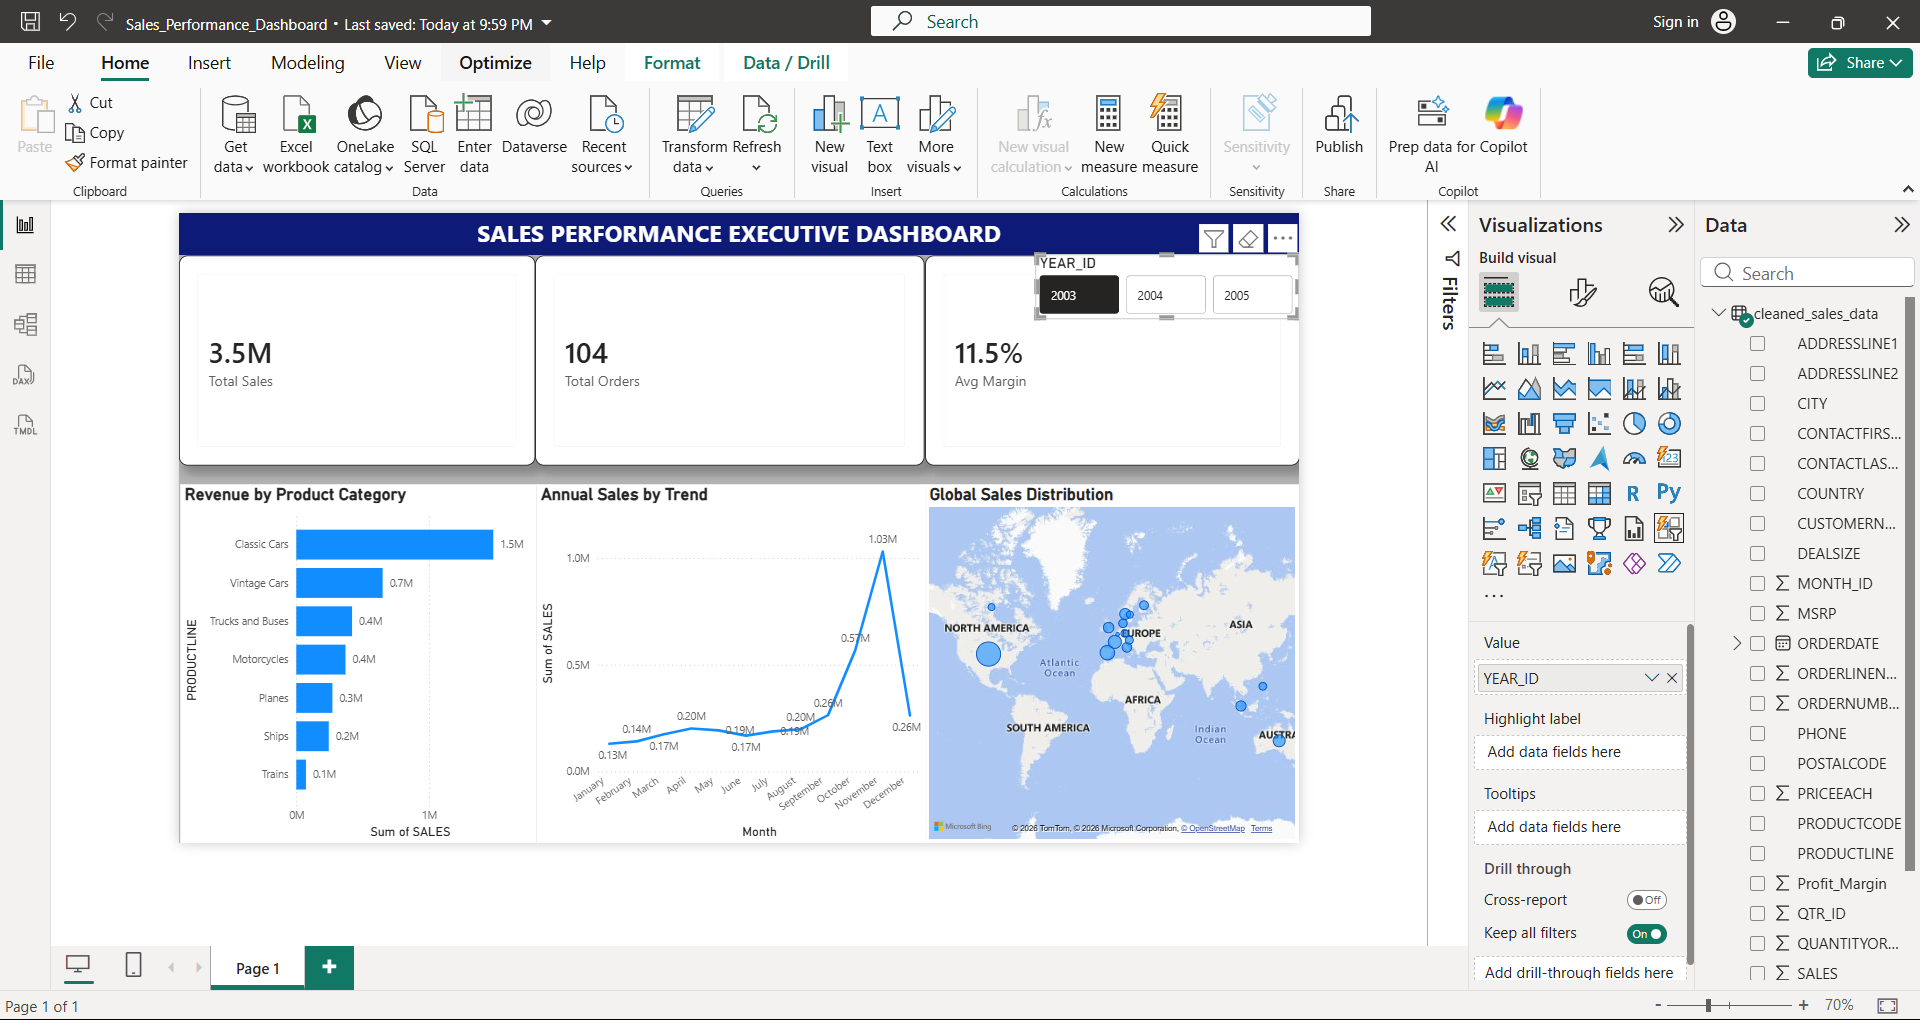

Layout of this report page (visuals, bound fields, positions):
{"tool":"powerbi","page":{"name":"Page 1","canvas":[1280,720],"ordinal":0},"visuals":[{"type":"shape","box":[0,0,1280.3,48],"z":0},{"type":"textbox","box":[0,0,1280.3,48],"z":1000},{"type":"cardVisual","fields":{"Data":["Sum(cleaned_sales_data.SALES)"]},"box":[0,48,407.5,240.1],"z":2000},{"type":"cardVisual","fields":{"Data":["Count(cleaned_sales_data.ORDERNUMBER)"]},"box":[407.5,48,444.6,240.1],"z":3000},{"type":"cardVisual","fields":{"Data":["Avg(cleaned_sales_data.Profit_Margin)"]},"box":[852.1,48,428.1,240.1],"z":4000},{"type":"lineChart","title":"Annual Sales by Trend","fields":{"Category":["cleaned_sales_data.ORDERDATE.Variation.Date Hierarchy.Year","cleaned_sales_data.ORDERDATE.Variation.Date Hierarchy.Quarter","cleaned_sales_data.ORDERDATE.Variation.Date Hierarchy.Month","cleaned_sales_data.ORDERDATE.Variation.Date Hierarchy.Day"],"Y":["Sum(cleaned_sales_data.SALES)"]},"box":[408.9,310.1,444.6,410.3],"z":5000},{"type":"clusteredBarChart","title":"Revenue by Product Category","fields":{"Category":["cleaned_sales_data.PRODUCTLINE"],"Y":["Sum(cleaned_sales_data.SALES)"]},"box":[1.4,310.1,407.5,410.3],"z":6000},{"type":"map","title":"Global Sales Distribution","fields":{"Category":["cleaned_sales_data.COUNTRY"],"Size":["Sum(cleaned_sales_data.SALES)"]},"box":[853.5,310.1,426.8,410.3],"z":7000},{"type":"advancedSlicerVisual","fields":{"Values":["cleaned_sales_data.YEAR_ID"]},"box":[978.4,46.7,301.9,74.1],"z":8000}]}

Visuals, with their boxes on the page's 1280x720 design canvas (x1, y1, x2, y2). These are canvas units, not pixel positions in the 1920x1020 screenshot, which may show the page scaled, cropped or inside an application window:
shape: box=[0, 0, 1280, 48]
textbox: box=[0, 0, 1280, 48]
cardVisual - Sum(cleaned_sales_data.SALES): box=[0, 48, 408, 288]
cardVisual - Count(cleaned_sales_data.ORDERNUMBER): box=[408, 48, 852, 288]
cardVisual - Avg(cleaned_sales_data.Profit_Margin): box=[852, 48, 1280, 288]
"Annual Sales by Trend" lineChart: box=[409, 310, 854, 720]
"Revenue by Product Category" clusteredBarChart: box=[1, 310, 409, 720]
"Global Sales Distribution" map: box=[854, 310, 1280, 720]
advancedSlicerVisual - cleaned_sales_data.YEAR_ID: box=[978, 47, 1280, 121]
